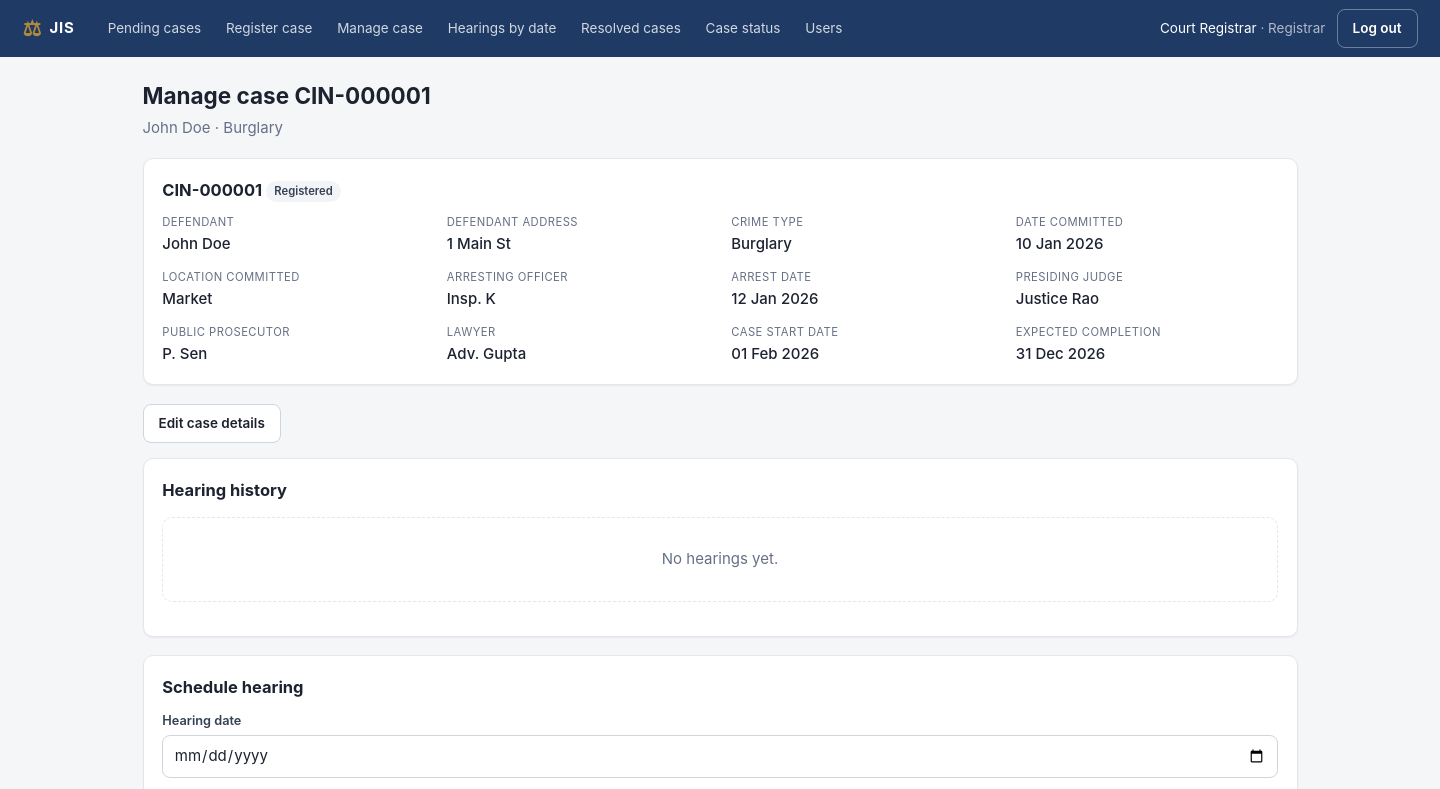
Test case: case management › shows vacant slots and handles a slot that was booked meanwhile
The width and height of the screenshot is (1440, 789).
Type "2030-01-07" into the date field labelled "Hearing date" at x=720, y=756, box [162, 735, 1278, 778]
(page scrolled)
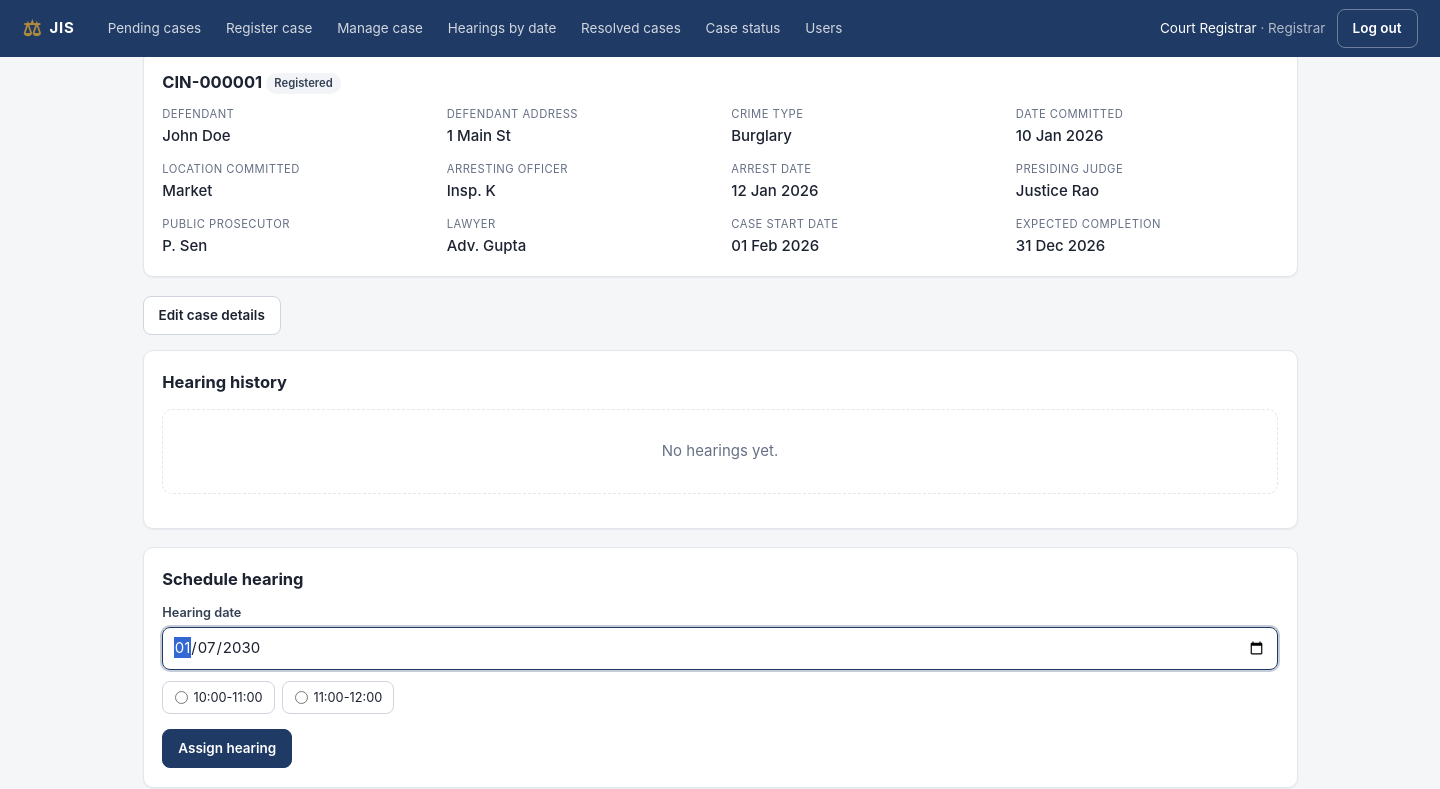
Click the radio button labelled "10:00-11:00" at x=181, y=698, box [174, 691, 188, 704]
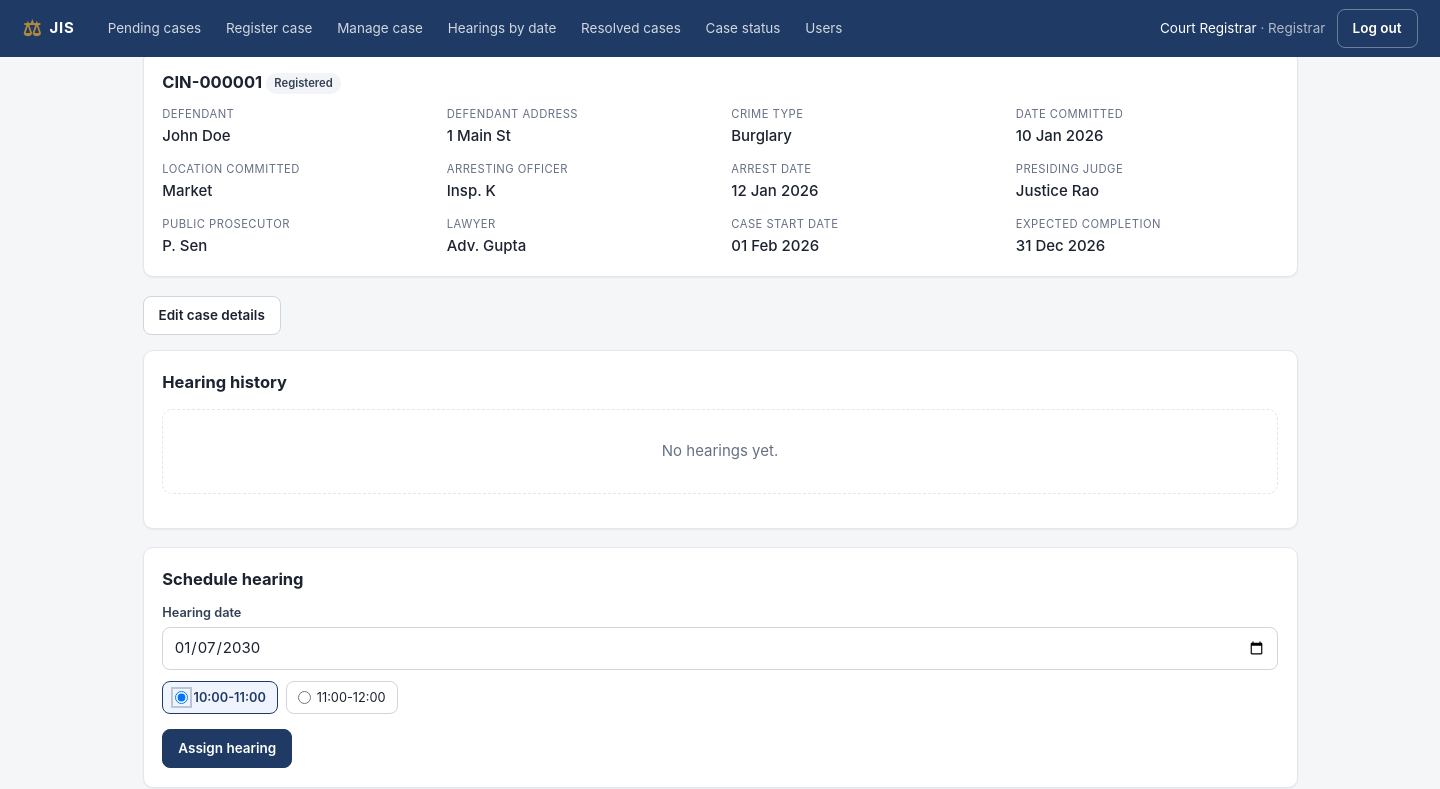
Click the button "Assign hearing" at x=227, y=748, box [162, 729, 292, 768]
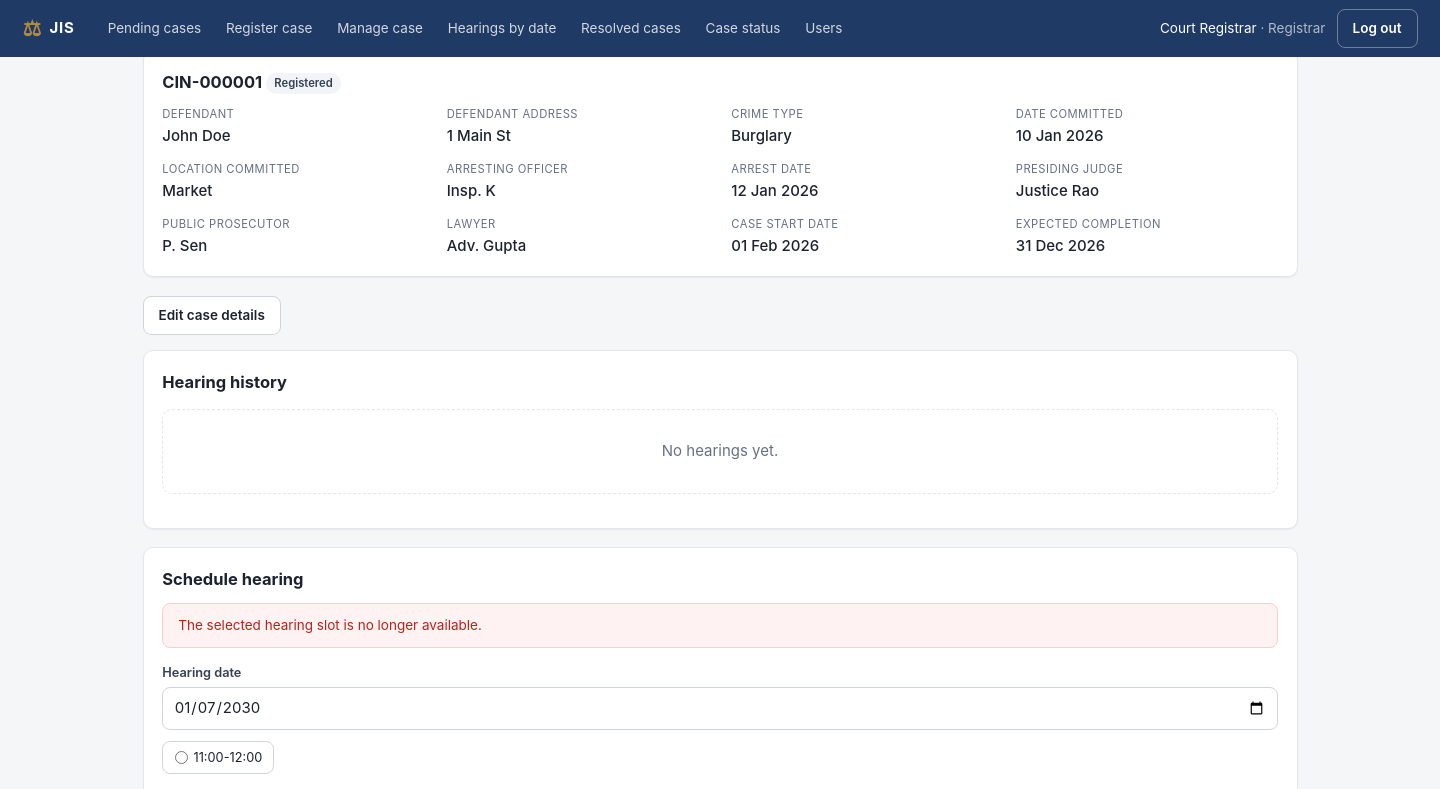
expect the text "The selected hearing slot is no longer available." is shown: met, box [162, 603, 1278, 648]
expect the label labelled "10:00-11:00" is gone: met
expect the radio button labelled "11:00-12:00" is shown: met, box [174, 751, 188, 764]
